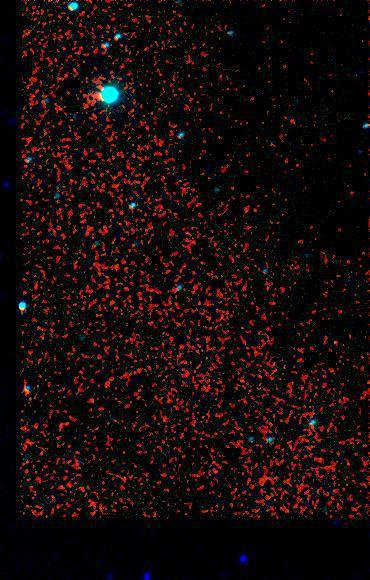star: (318, 329, 348, 359)
